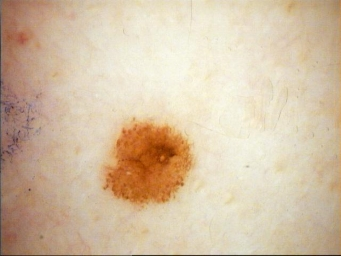melanoma: (104, 124, 192, 202)
